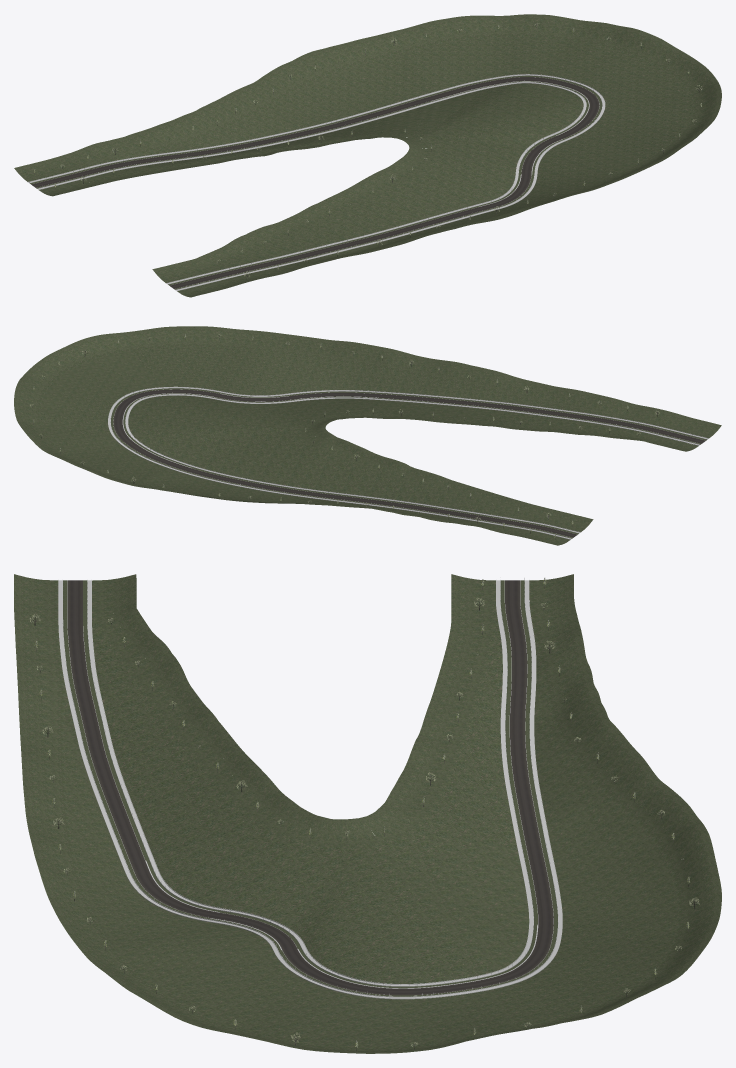
The picture shows the model from 3 angles, top to bottom: view 1: azimuth 30°, elevation 25°; view 2: azimuth 150°, elevation 25°; view 3: azimuth 270°, elevation 25°; orthographic projection. The views are drawn at different scales.
Visible parts, largest first — view 1: Grass, Road, Track, Trees; view 2: Grass, Track, Road, Trees; view 3: Grass, Road, Track, Trees.
Part boxes in pixels (box(x1,y1,x2,y2)): Grass: box(14, 14, 721, 297); Road: box(31, 77, 599, 288); Track: box(28, 74, 605, 290); Trees: box(34, 23, 702, 278); Grass: box(14, 326, 721, 545); Track: box(108, 386, 708, 539); Road: box(113, 389, 705, 537); Trees: box(30, 333, 659, 539); Grass: box(14, 574, 721, 1053); Road: box(67, 580, 553, 995); Track: box(58, 578, 562, 999); Trees: box(29, 578, 699, 1050).
Size of what is drawn, in the model's own units: 129906 by 6198 by 80932.
